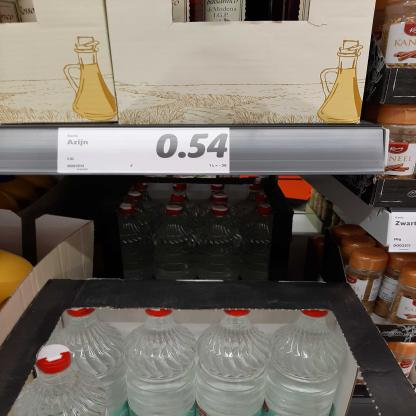prtg: (59, 129, 231, 175)
